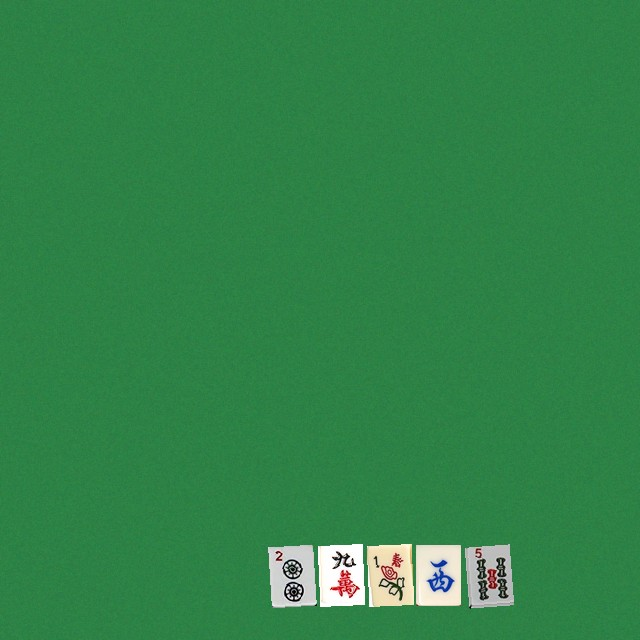tile: (268, 544, 313, 605), (317, 544, 362, 605), (366, 544, 411, 605), (415, 544, 460, 605), (464, 544, 509, 605)
